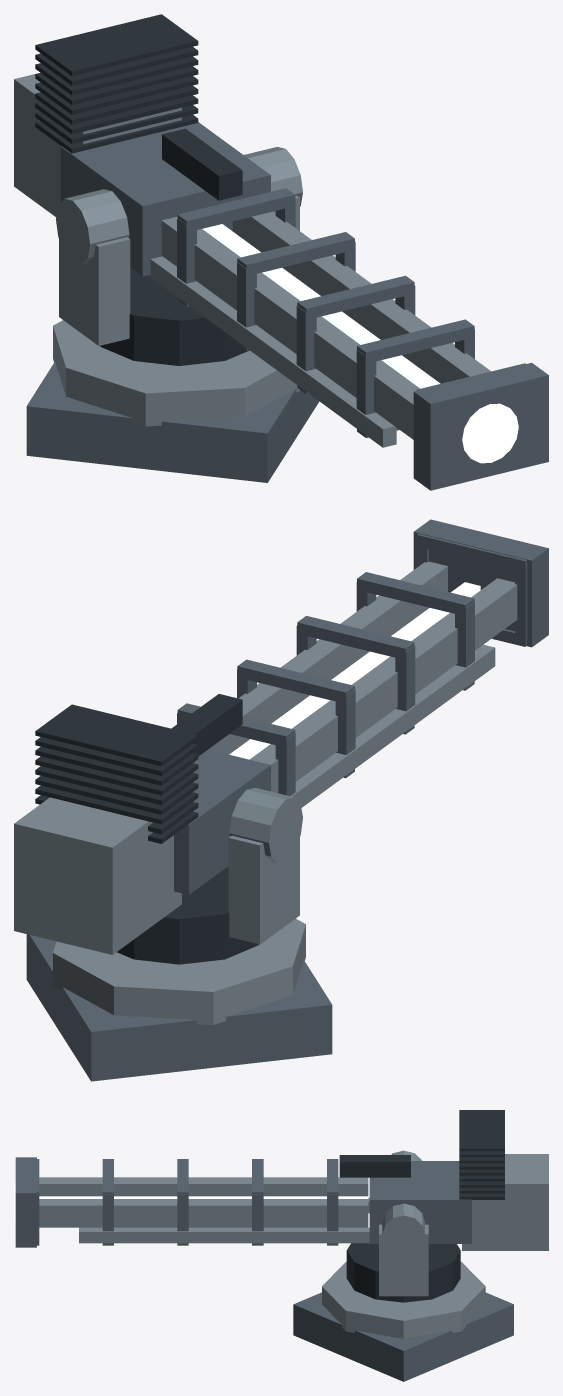
File: lancer_t3_d0.glb
3 views of the same model, one above another, from view 1: azimuth 30°, elevation 25°; view 2: azimuth 150°, elevation 25°; view 3: azimuth 270°, elevation 25° (orthographic). The views are drawn at different scales.
Visible parts, largest first — view 1: RECOIL_ARMOR_GEOMETRY, BASE_ARMOR_GEOMETRY, YAW_ARMOR_GEOMETRY, RECOIL_SIGNAL_GEOMETRY; view 2: RECOIL_ARMOR_GEOMETRY, BASE_ARMOR_GEOMETRY, YAW_ARMOR_GEOMETRY, RECOIL_SIGNAL_GEOMETRY; view 3: RECOIL_ARMOR_GEOMETRY, BASE_ARMOR_GEOMETRY, YAW_ARMOR_GEOMETRY, RECOIL_SIGNAL_GEOMETRY.
Part boxes in pixels (bbox=[...]): RECOIL_ARMOR_GEOMETRY: bbox=[14, 14, 548, 490]; BASE_ARMOR_GEOMETRY: bbox=[26, 320, 319, 482]; YAW_ARMOR_GEOMETRY: bbox=[59, 195, 299, 365]; RECOIL_SIGNAL_GEOMETRY: bbox=[202, 224, 518, 463]; RECOIL_ARMOR_GEOMETRY: bbox=[14, 519, 548, 954]; BASE_ARMOR_GEOMETRY: bbox=[26, 918, 332, 1081]; YAW_ARMOR_GEOMETRY: bbox=[117, 835, 299, 964]; RECOIL_SIGNAL_GEOMETRY: bbox=[229, 582, 480, 759]; RECOIL_ARMOR_GEOMETRY: bbox=[15, 1110, 548, 1254]; BASE_ARMOR_GEOMETRY: bbox=[293, 1261, 513, 1381]; YAW_ARMOR_GEOMETRY: bbox=[346, 1224, 460, 1302]; RECOIL_SIGNAL_GEOMETRY: bbox=[14, 1182, 368, 1222].
Bounding box in the file's own units: 1.55 × 1.6 × 3.76.
